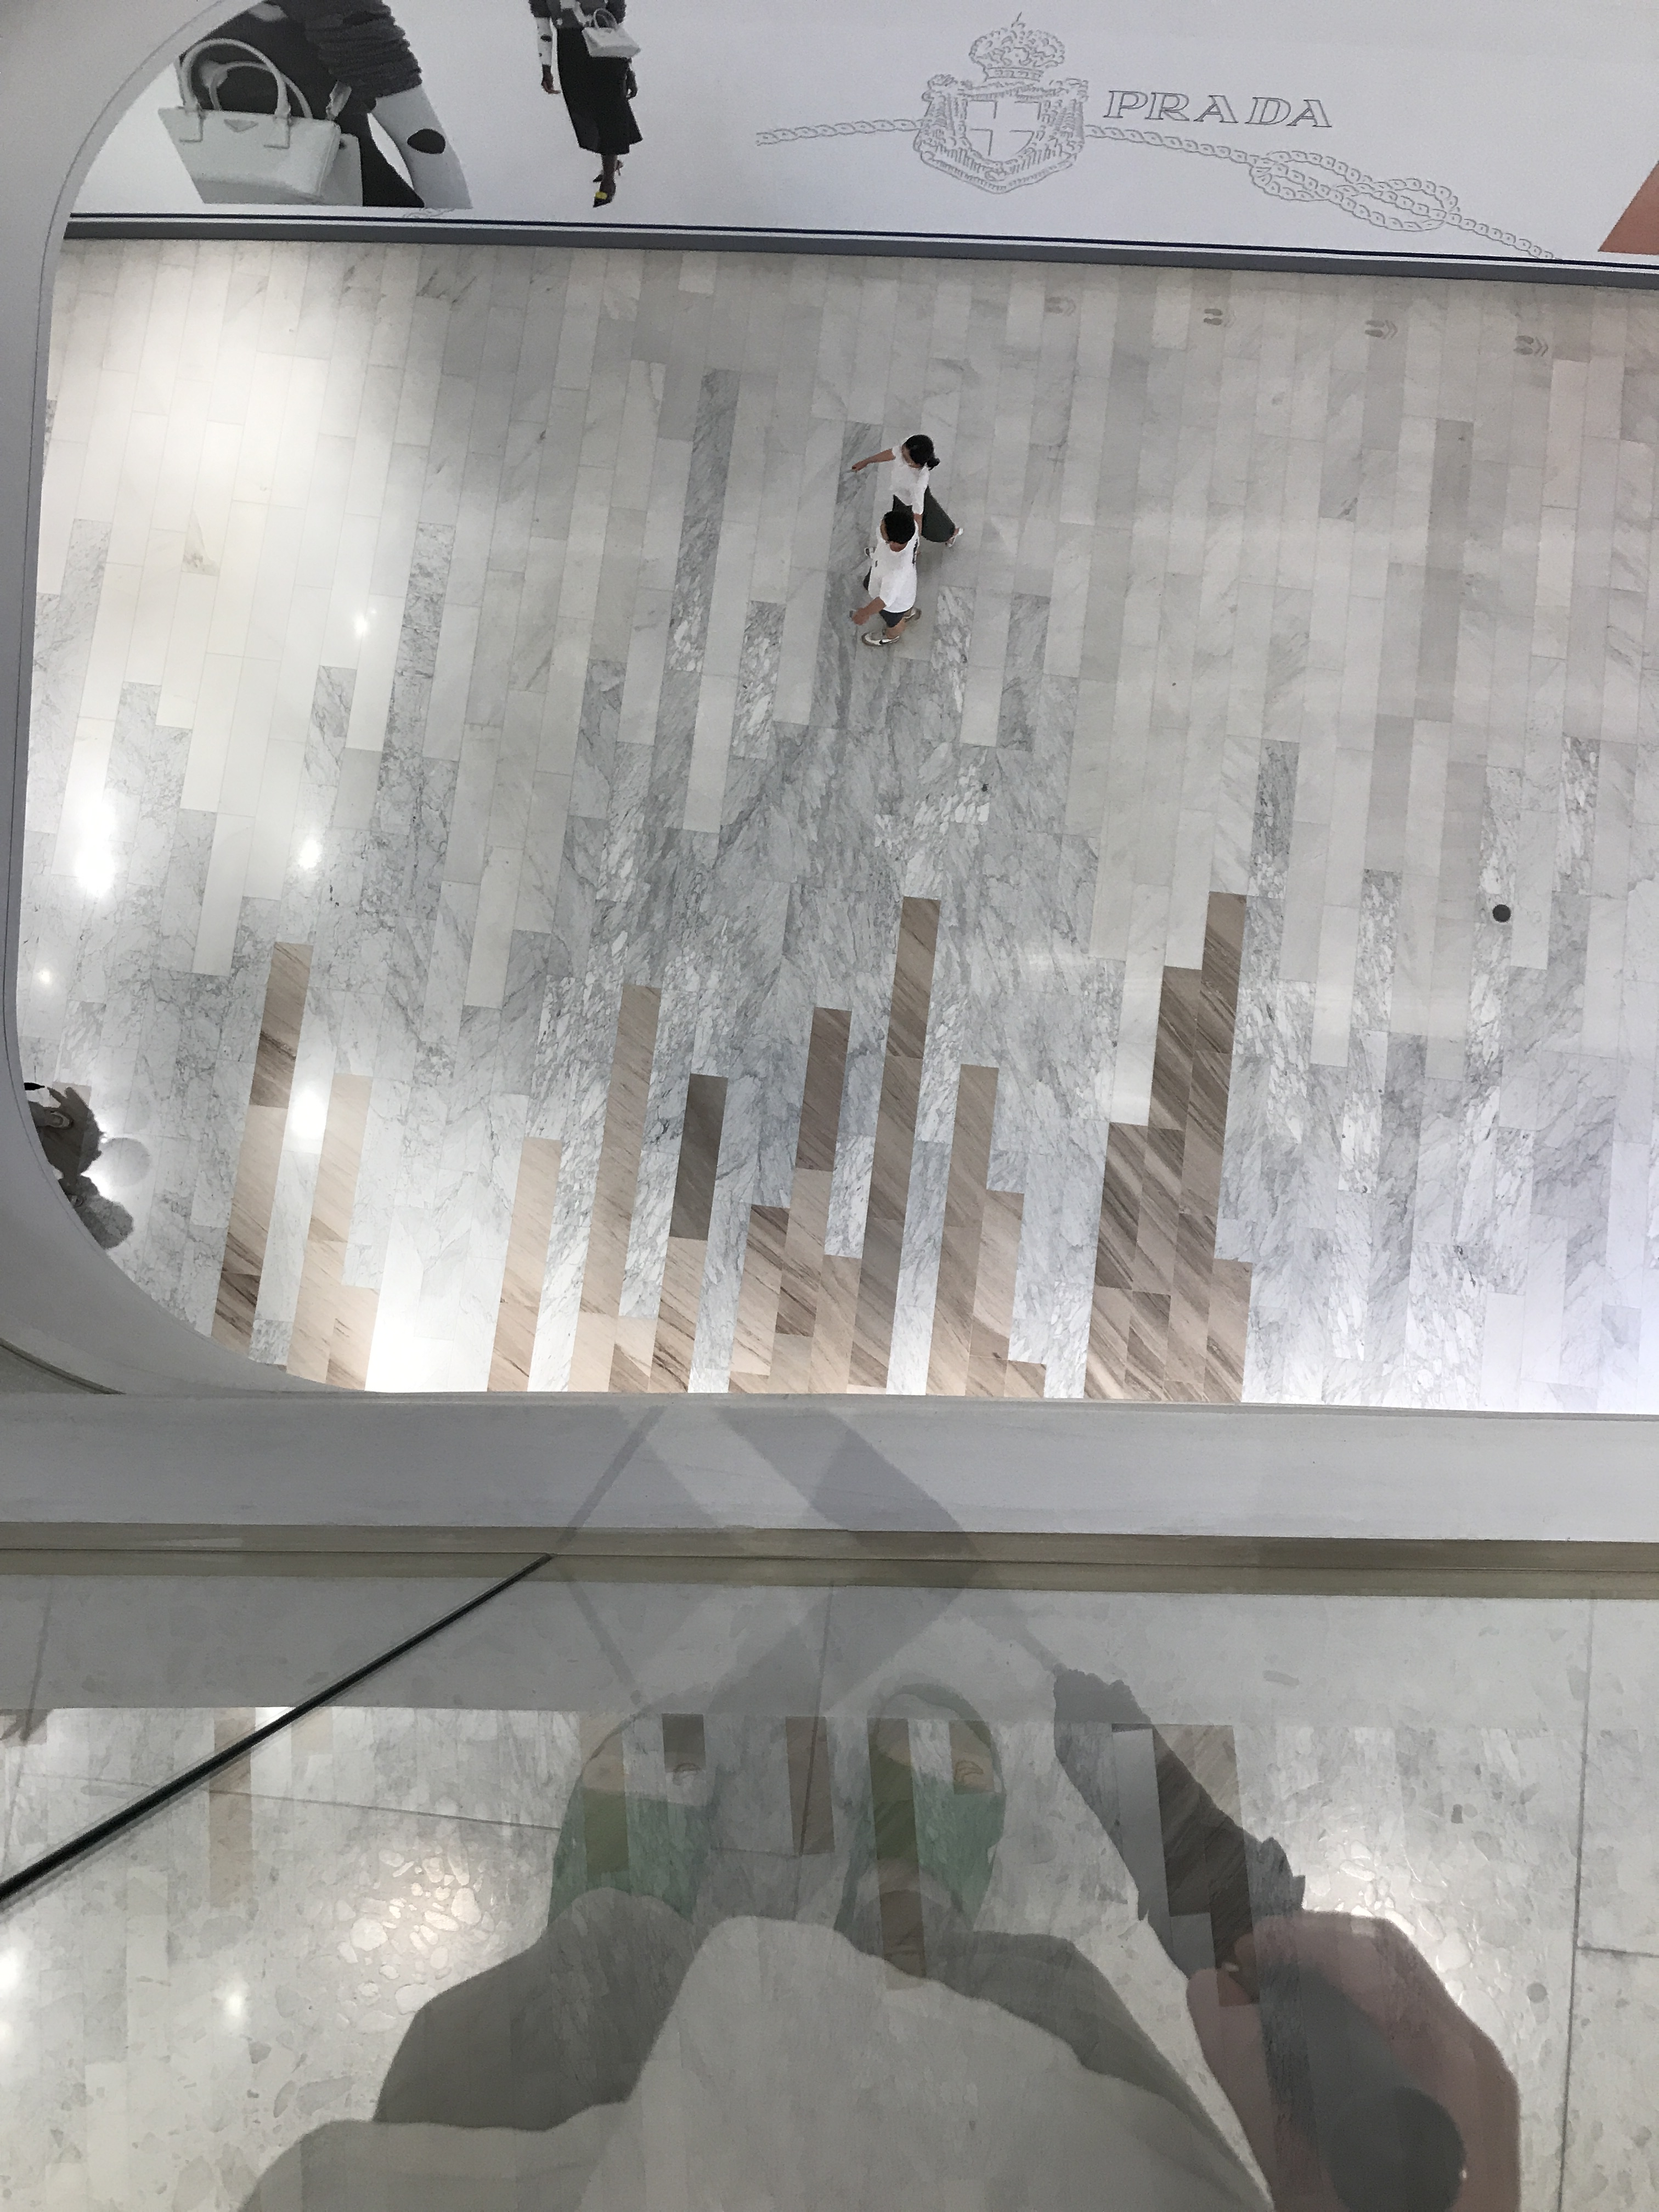person: (847, 435, 966, 558), (849, 506, 925, 651)
